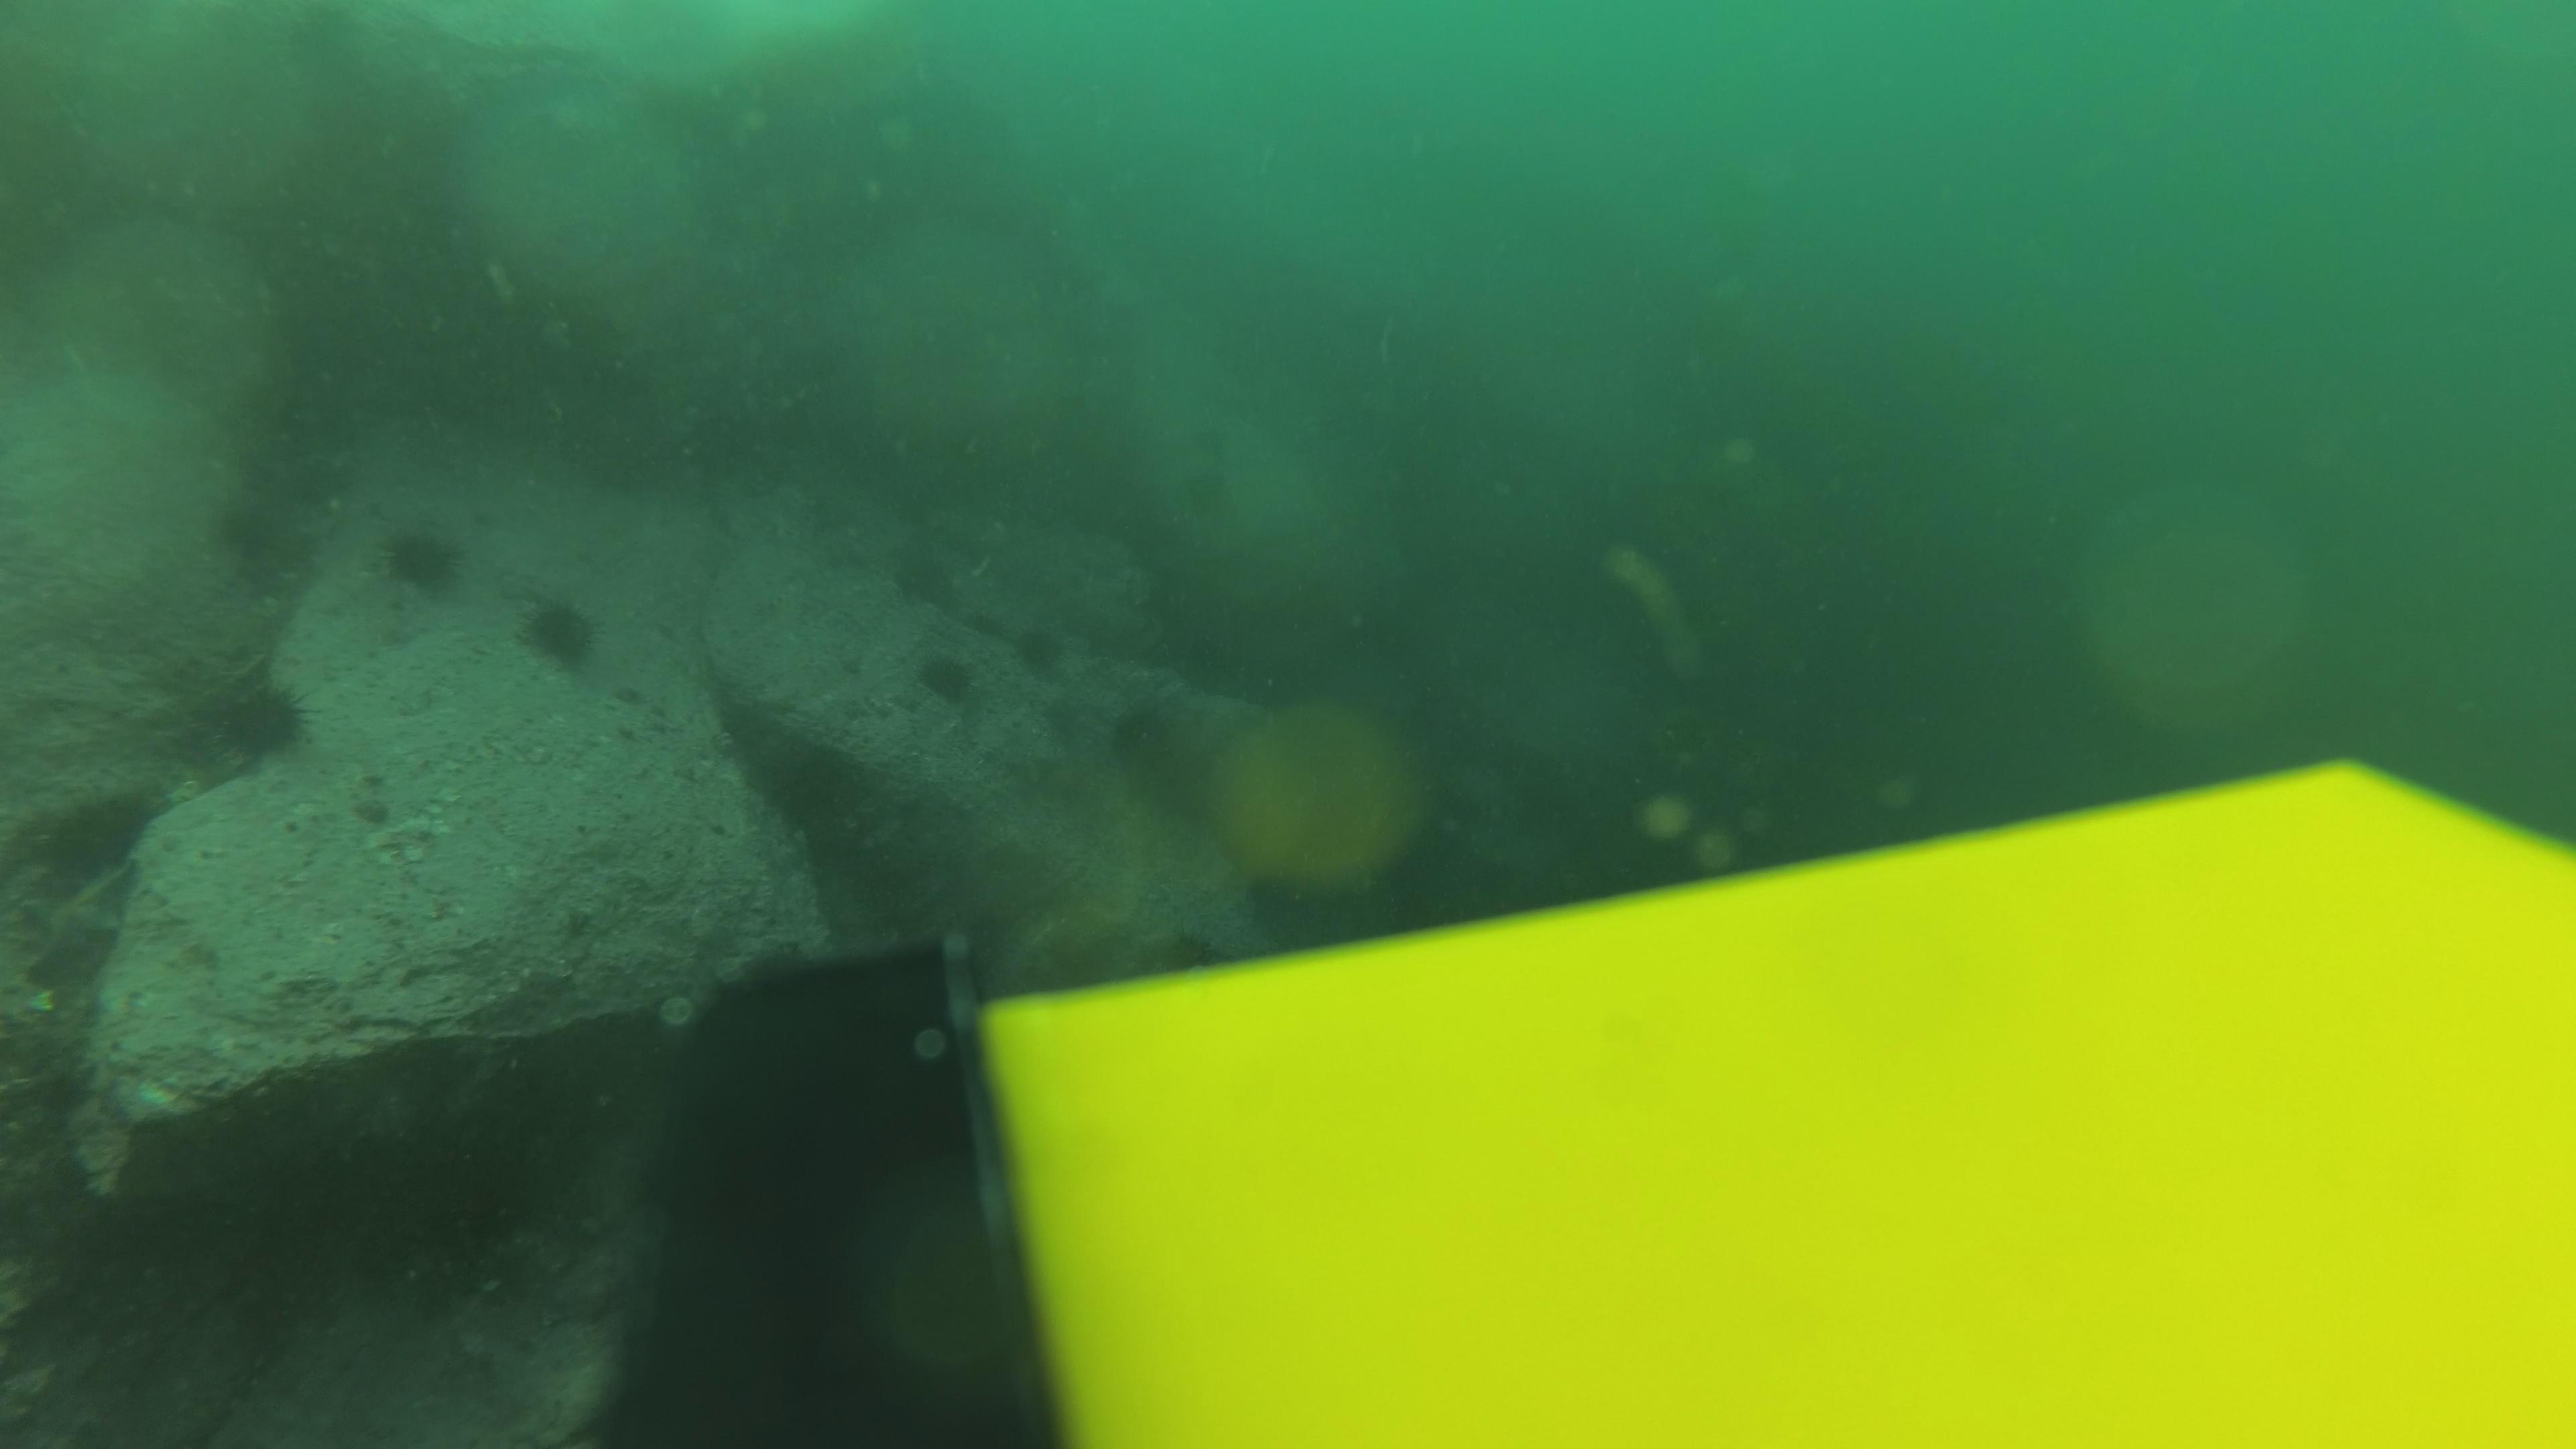echinus: (30, 780, 170, 892), (195, 667, 315, 770), (205, 488, 318, 589), (1099, 694, 1194, 786), (372, 515, 469, 598), (513, 589, 607, 674), (883, 536, 966, 612), (911, 644, 982, 709), (1010, 617, 1070, 681)
starfish: (18, 849, 147, 982)
